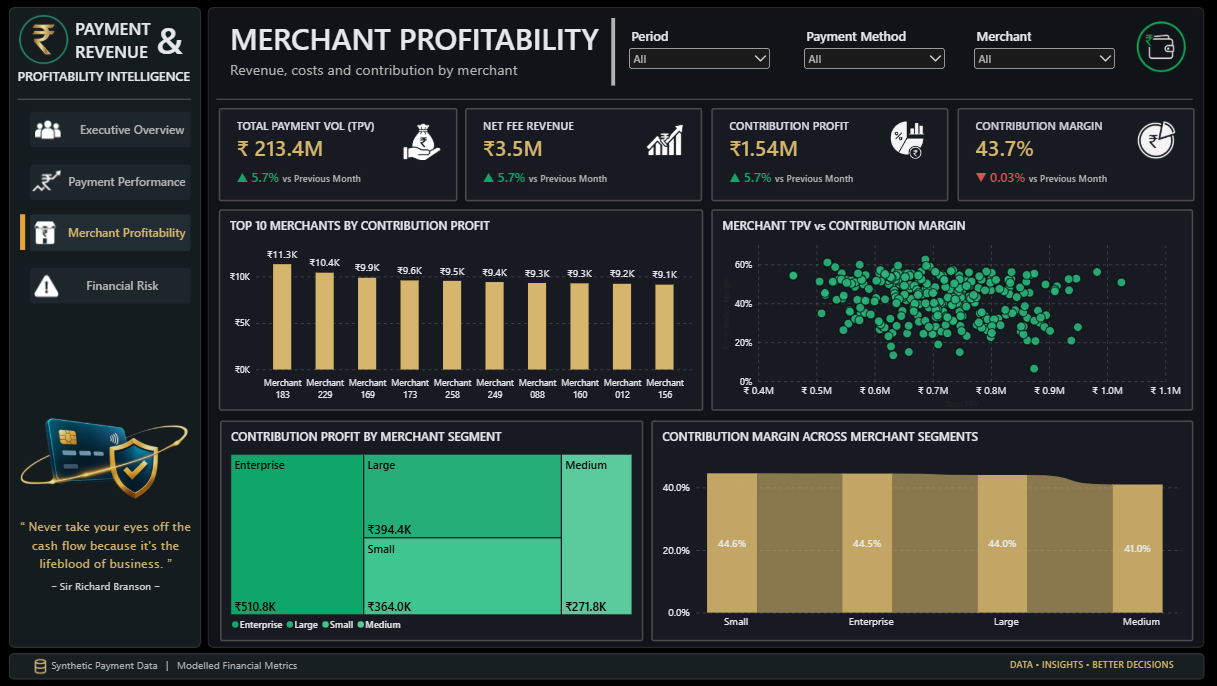

What the dashboard file says about the page in this screenshot:
{"tool":"powerbi","page":{"name":"Merchant Profitability","canvas":[1920,1080],"ordinal":2},"visuals":[{"type":"shape","box":[22,14,302,1006],"z":0},{"type":"image","box":[20.2,614.7,292.6,219],"z":0,"group":"g2"},{"type":"shape","box":[334,14,1564,1006],"z":1000},{"type":"textbox","title":"“ Never take your eyes off the cash flow because it''s the lifeblood of business. ” ","box":[34.9,815.3,276.1,123.3],"z":1000,"group":"g2"},{"type":"shape","box":[22,1028,1876,42],"z":2000},{"type":"textbox","title":"MERCHANT PROFITABILITY","box":[368,32,588,96],"z":3000},{"type":"actionButton","box":[54,178,252,56],"z":4000},{"type":"actionButton","box":[54,260,252,56],"z":5000},{"type":"actionButton","box":[54,340,252,58],"z":6000},{"type":"actionButton","box":[54,424,252,56],"z":7000},{"type":"shape","box":[34,340,20,56],"z":9000},{"type":"group","id":"g1","title":"Group 1","box":[52,1034,1804,30],"z":12000},{"type":"textbox","title":"PAYMENT REVENUE","box":[126,30,122,66],"z":13000},{"type":"textbox","title":"&","box":[252.5,25,47.5,65],"z":14000},{"type":"textbox","title":"PROFITABILITY INTELLIGENCE","box":[36,108,280,34],"z":15000},{"type":"image","box":[32,26,90,78],"z":16000},{"type":"shape","box":[36,152,272,12],"z":17000},{"type":"shape","box":[348,152,1532,12],"z":18000},{"type":"image","box":[1782,36,94,82],"z":19000},{"type":"slicer","fields":{"Values":["Date.Month Year"]},"box":[990,46,230,80],"z":20000},{"type":"shape","box":[962,32,14,106],"z":21000},{"type":"slicer","fields":{"Values":["Transactions.payment_method"]},"box":[1264,46,230,80],"z":22000},{"type":"slicer","fields":{"Values":["Merchants.merchant_name"]},"box":[1532,46,230,80],"z":23000},{"type":"image","box":[52,1034,36,30],"z":23000,"group":"g1"},{"type":"cardVisual","fields":{"Data":["ALL_Measures.Contribution Margin"]},"box":[1510,172,372,146],"z":24000},{"type":"textbox","box":[88,1036,392,28],"z":24000,"group":"g1"},{"type":"cardVisual","fields":{"Data":["ALL_Measures.Total TPV"]},"box":[350,172,374,146],"z":25000},{"type":"textbox","box":[1592,1036,264,28],"z":25000,"group":"g1"},{"type":"cardVisual","fields":{"Data":["ALL_Measures.Net Fee Revenue"]},"box":[738,172,372,146],"z":26000},{"type":"cardVisual","fields":{"Data":["ALL_Measures.Contribution Profit"]},"box":[1124,172,372,146],"z":27000},{"type":"clusteredColumnChart","title":"TOP 10 MERCHANTS BY CONTRIBUTION PROFIT","fields":{"Category":["Merchants.merchant_name"],"Y":["ALL_Measures.Contribution Profit"]},"box":[350,332,760,316],"z":28000},{"type":"scatterChart","title":"MERCHANT TPV vs CONTRIBUTION MARGIN","fields":{"Category":["Merchants.merchant_name"],"X":["ALL_Measures.Total TPV"],"Y":["ALL_Measures.Contribution Margin"]},"box":[1124,332,756,316],"z":29000},{"type":"treemap","title":"CONTRIBUTION PROFIT BY MERCHANT SEGMENT","fields":{"Group":["Merchants.segment"],"Values":["ALL_Measures.Contribution Profit"]},"box":[352,662,664,346],"z":30000},{"type":"ribbonChart","title":"CONTRIBUTION MARGIN ACROSS MERCHANT SEGMENTS","fields":{"Category":["Merchants.segment"],"Y":["ALL_Measures.Contribution Margin"]},"box":[1030,662,850,346],"z":31000},{"type":"group","id":"g2","title":"Group 2","box":[20.2,614.7,292.6,323.9],"z":31001}]}

Visuals, with their boxes in screenshot pixels (x1, y1, x2, y2), scaled from the page's 1920x1080 canvas onto the 1217x686 screenshot:
shape: detection(14, 9, 205, 648)
image: detection(13, 390, 198, 530)
shape: detection(212, 9, 1203, 648)
"“ Never take your eyes off the cash flow because it''s the lifeblood of business. ” " textbox: detection(22, 518, 197, 596)
shape: detection(14, 653, 1203, 680)
"MERCHANT PROFITABILITY" textbox: detection(233, 20, 606, 81)
actionButton: detection(34, 113, 194, 149)
actionButton: detection(34, 165, 194, 201)
actionButton: detection(34, 216, 194, 253)
actionButton: detection(34, 269, 194, 305)
shape: detection(22, 216, 34, 252)
"Group 1" group: detection(33, 657, 1176, 676)
"PAYMENT REVENUE" textbox: detection(80, 19, 157, 61)
"&" textbox: detection(160, 16, 190, 57)
"PROFITABILITY INTELLIGENCE" textbox: detection(23, 69, 200, 90)
image: detection(20, 17, 77, 66)
shape: detection(23, 97, 195, 104)
shape: detection(221, 97, 1192, 104)
image: detection(1130, 23, 1189, 75)
slicer - Date.Month Year: detection(628, 29, 773, 80)
shape: detection(610, 20, 619, 88)
slicer - Transactions.payment_method: detection(801, 29, 947, 80)
slicer - Merchants.merchant_name: detection(971, 29, 1117, 80)
image: detection(33, 657, 56, 676)
cardVisual - ALL_Measures.Contribution Margin: detection(957, 109, 1193, 202)
textbox: detection(56, 658, 304, 676)
cardVisual - ALL_Measures.Total TPV: detection(222, 109, 459, 202)
textbox: detection(1009, 658, 1176, 676)
cardVisual - ALL_Measures.Net Fee Revenue: detection(468, 109, 704, 202)
cardVisual - ALL_Measures.Contribution Profit: detection(712, 109, 948, 202)
"TOP 10 MERCHANTS BY CONTRIBUTION PROFIT" clusteredColumnChart: detection(222, 211, 704, 412)
"MERCHANT TPV vs CONTRIBUTION MARGIN" scatterChart: detection(712, 211, 1192, 412)
"CONTRIBUTION PROFIT BY MERCHANT SEGMENT" treemap: detection(223, 420, 644, 640)
"CONTRIBUTION MARGIN ACROSS MERCHANT SEGMENTS" ribbonChart: detection(653, 420, 1192, 640)
"Group 2" group: detection(13, 390, 198, 596)
